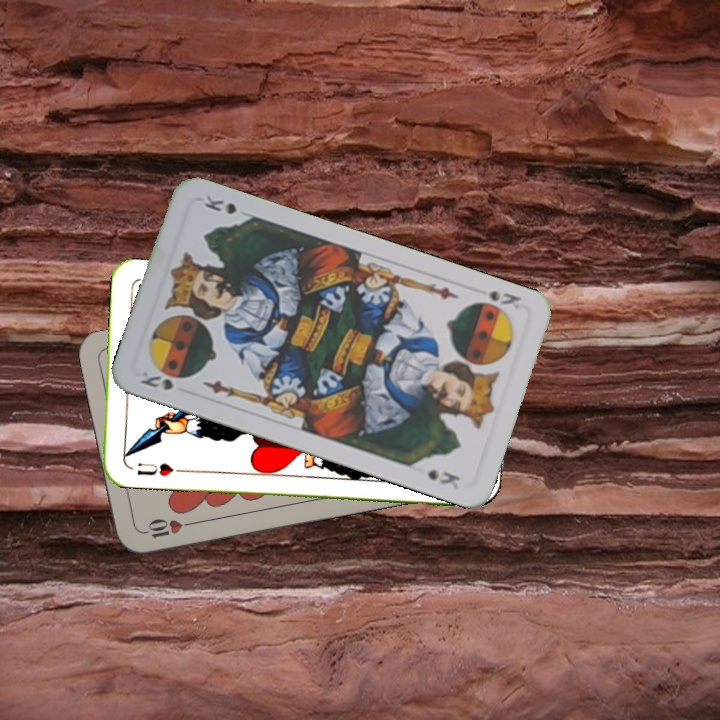H10: (138, 515, 197, 541)
HU: (133, 458, 176, 479)
SK: (468, 286, 524, 317), (136, 367, 176, 393)
